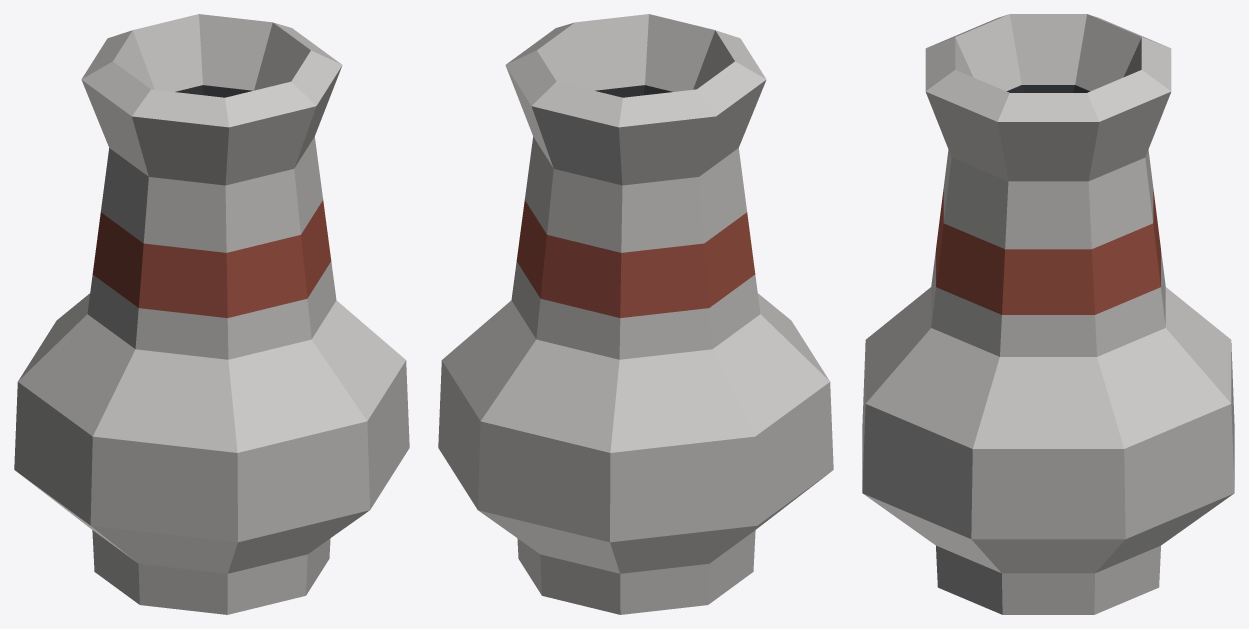
Rendered from SM_Prop_Vase_01.fbx.
3 renders of one model, left to right at view 1: azimuth 30°, elevation 25°; view 2: azimuth 150°, elevation 25°; view 3: azimuth 270°, elevation 25°, orthographic.
Parts seen in each view (by area): view 1: SM_Prop_Vase_01; view 2: SM_Prop_Vase_01; view 3: SM_Prop_Vase_01.
Part boxes in pixels (bbox=[...]): SM_Prop_Vase_01: bbox=[14, 14, 409, 614]; SM_Prop_Vase_01: bbox=[438, 14, 833, 614]; SM_Prop_Vase_01: bbox=[862, 14, 1234, 614].
Size of the model in its own units: 38.99 by 59.48 by 38.99.
